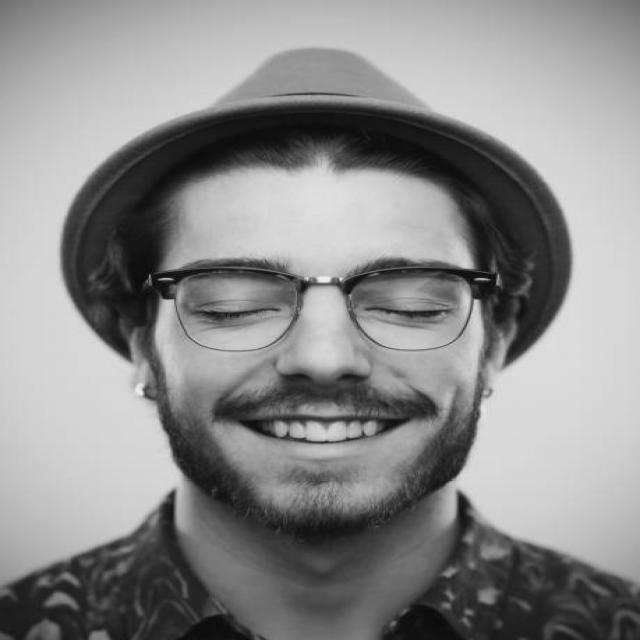real: (122, 131, 524, 535), (138, 249, 465, 334)
